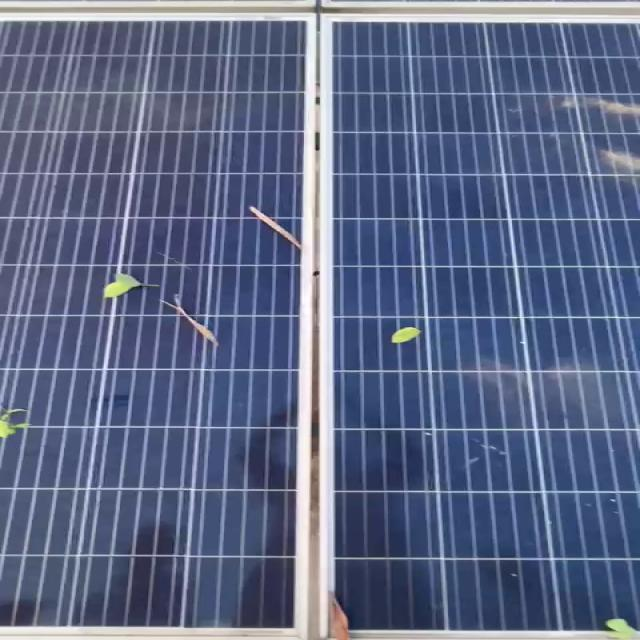dust_partical: (0, 61, 257, 141), (467, 342, 640, 419), (526, 86, 640, 127), (564, 139, 640, 198)
old_leaf: (155, 289, 244, 356), (316, 586, 385, 640), (244, 198, 304, 257), (0, 398, 56, 444), (100, 264, 162, 300), (376, 321, 451, 350), (590, 612, 640, 640)
